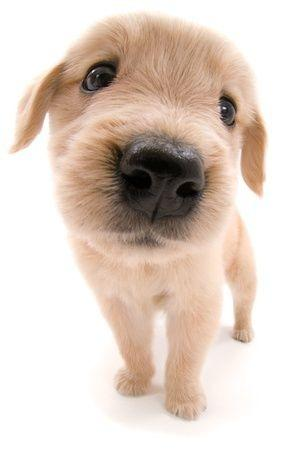puppy-dog: (6, 8, 268, 422)
